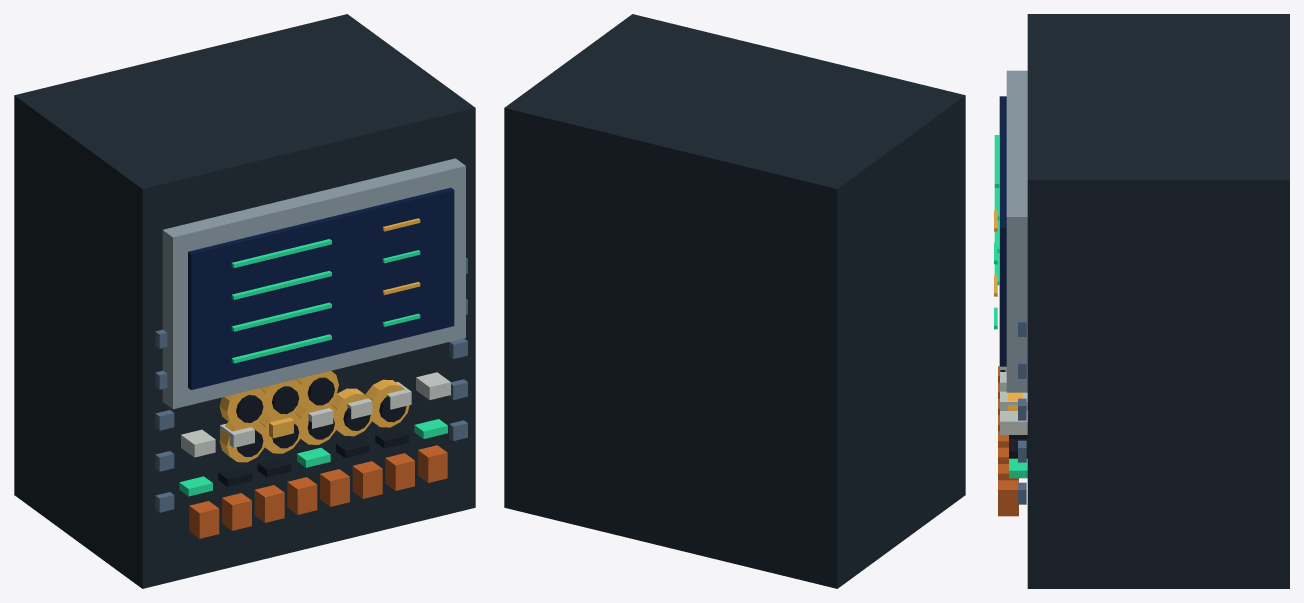
File: 33_L84_MomentumDesaturationController.fbx
The picture shows the model from 3 angles, left to right: view 1: azimuth 30°, elevation 25°; view 2: azimuth 150°, elevation 25°; view 3: azimuth 270°, elevation 25°; orthographic projection. The views are drawn at different scales.
Parts seen in each view (by area): view 1: L84_MomentumDesaturationController, L84_MomentumDesaturationController_Part_0016, L84_MomentumDesaturationController_Part_0018, L84_MomentumDesaturationController_Part_0020, L84_MomentumDesaturationController_Part_0010, L84_MomentumDesaturationController_Part_0014, L84_MomentumDesaturationController_Part_0024, L84_MomentumDesaturationController_Part_0012, L84_MomentumDesaturationController_Part_0022, L84_MomentumDesaturationController_Part_0025, L84_MomentumDesaturationController_Part_0023, L84_MomentumDesaturationController_Part_0021; view 2: L84_MomentumDesaturationController; view 3: L84_MomentumDesaturationController.
Boxes of the visible parts, <box> form: L84_MomentumDesaturationController: <box>14,14,475,588</box>; L84_MomentumDesaturationController_Part_0016: <box>330,388,374,436</box>; L84_MomentumDesaturationController_Part_0018: <box>365,379,409,427</box>; L84_MomentumDesaturationController_Part_0020: <box>219,388,267,427</box>; L84_MomentumDesaturationController_Part_0010: <box>219,420,267,462</box>; L84_MomentumDesaturationController_Part_0014: <box>294,403,338,444</box>; L84_MomentumDesaturationController_Part_0024: <box>295,371,338,410</box>; L84_MomentumDesaturationController_Part_0012: <box>258,411,303,453</box>; L84_MomentumDesaturationController_Part_0022: <box>260,379,302,417</box>; L84_MomentumDesaturationController_Part_0025: <box>307,377,334,405</box>; L84_MomentumDesaturationController_Part_0023: <box>272,386,298,414</box>; L84_MomentumDesaturationController_Part_0021: <box>236,395,263,422</box>; L84_MomentumDesaturationController: <box>504,14,965,588</box>; L84_MomentumDesaturationController: <box>994,14,1289,588</box>.
Bounding box in the file's own units: 107 × 123 × 80.59.
